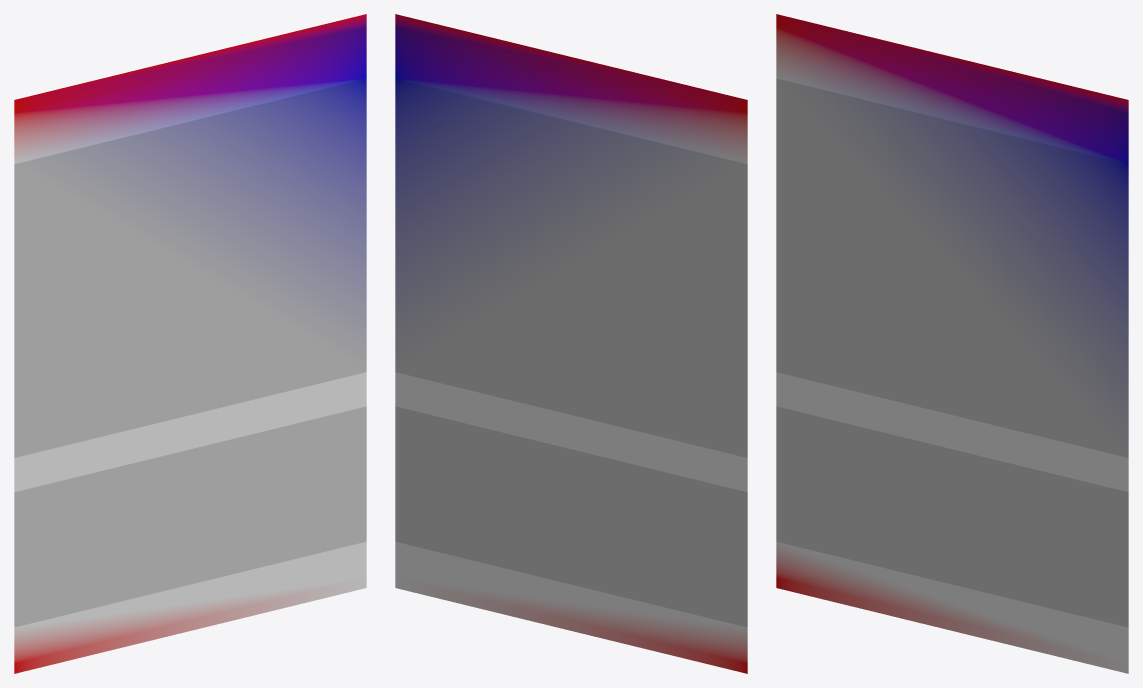
3 views of the same model, side by side, from view 1: azimuth 30°, elevation 25°; view 2: azimuth 150°, elevation 25°; view 3: azimuth 330°, elevation 25° (orthographic).
Parts seen in each view (by area): view 1: SM_Bathroom_Wall_01_LOD0; view 2: SM_Bathroom_Wall_01_LOD0; view 3: SM_Bathroom_Wall_01_LOD0.
Boxes of the visible parts, left/top/right/bottom form: SM_Bathroom_Wall_01_LOD0: left=14, top=14, right=366, bottom=673; SM_Bathroom_Wall_01_LOD0: left=395, top=14, right=747, bottom=673; SM_Bathroom_Wall_01_LOD0: left=776, top=14, right=1128, bottom=673.
Bounding box in the file's own units: 225 × 2.68e-05 × 350.
